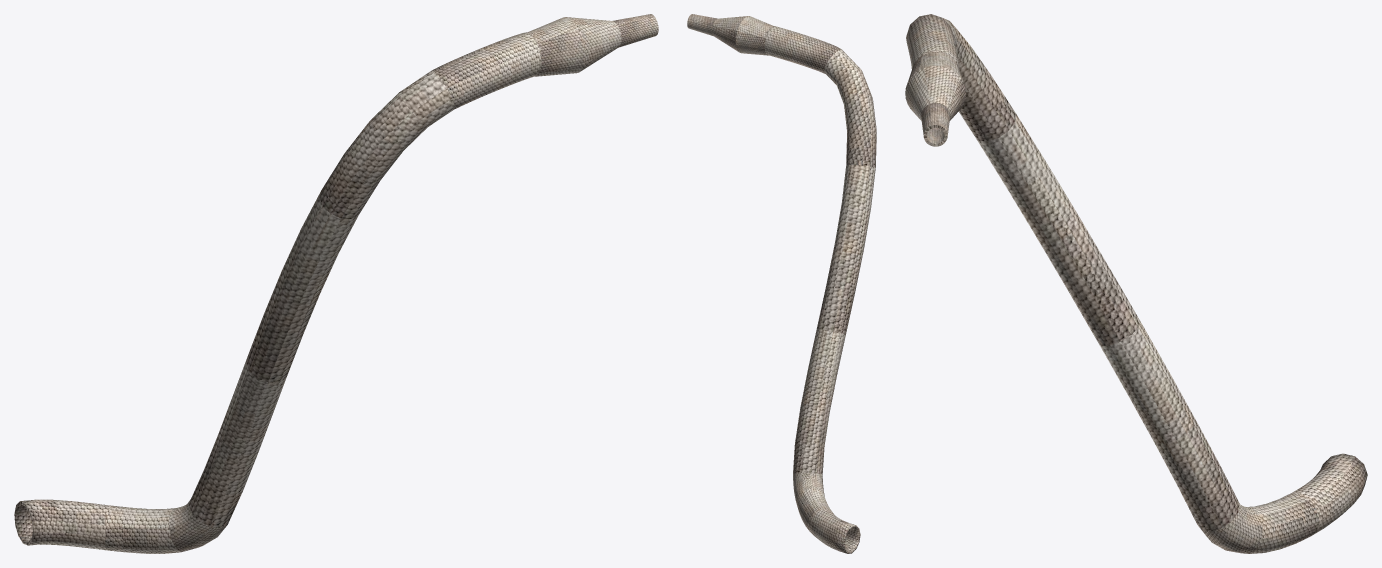
Rendered from camarahumo.obj.
3 renders of one model, left to right at view 1: azimuth 30°, elevation 25°; view 2: azimuth 150°, elevation 25°; view 3: azimuth 270°, elevation 25°, orthographic. The views are drawn at different scales.
Parts seen in each view (by area): view 1: camarah_Material.001; view 2: camarah_Material.001; view 3: camarah_Material.001.
Boxes of the visible parts, x1=… form: camarah_Material.001: x1=14, y1=14, x2=658, y2=553; camarah_Material.001: x1=687, y1=14, x2=876, y2=553; camarah_Material.001: x1=905, y1=14, x2=1367, y2=553.
Size of the model in its own units: 5.14 by 6.58 by 4.45.
